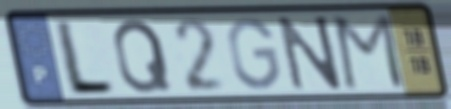2: (170, 16, 229, 96)
G: (225, 15, 283, 93)
L: (54, 17, 118, 98)
M: (331, 11, 408, 92)
N: (274, 12, 346, 94)
Q: (110, 16, 175, 96)
